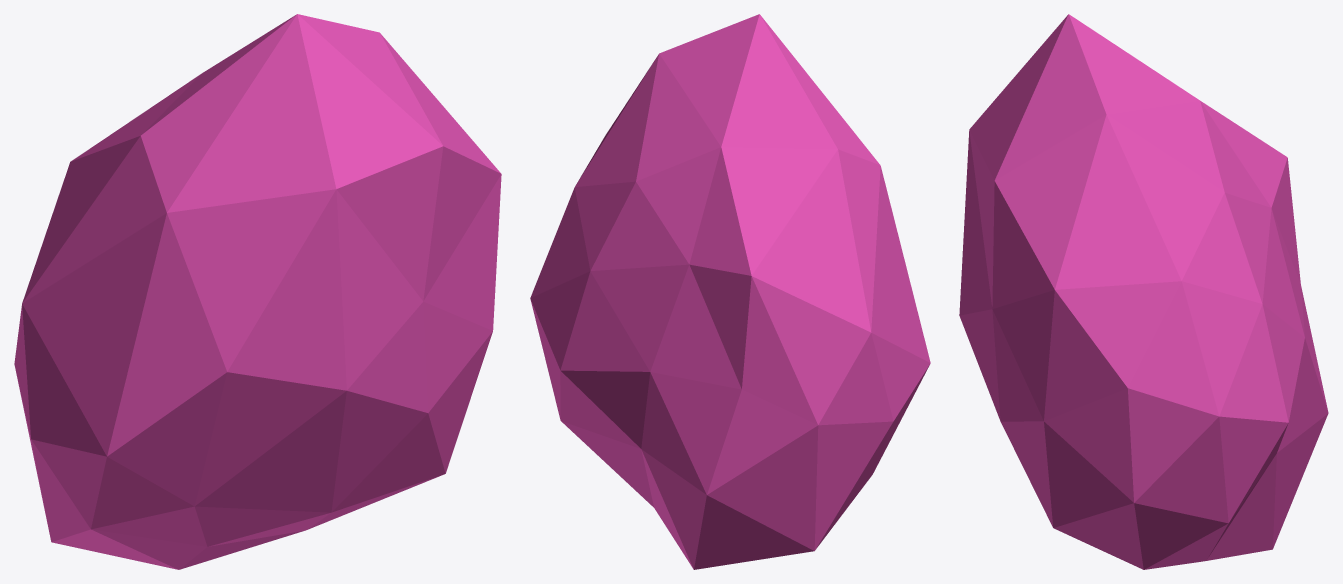
File: MediumAsteroid.fbx
The picture shows the model from 3 angles, left to right: view 1: azimuth 30°, elevation 25°; view 2: azimuth 150°, elevation 25°; view 3: azimuth 270°, elevation 25°; orthographic projection. The views are drawn at different scales.
Visible parts, largest first — view 1: Icosphere.005; view 2: Icosphere.005; view 3: Icosphere.005.
Part boxes in pixels (x1,y1,x2,y2): Icosphere.005: [14, 14, 501, 569]; Icosphere.005: [530, 14, 930, 569]; Icosphere.005: [959, 14, 1328, 569].
Bounding box in the file's own units: 37.53 × 49.53 × 30.18.
